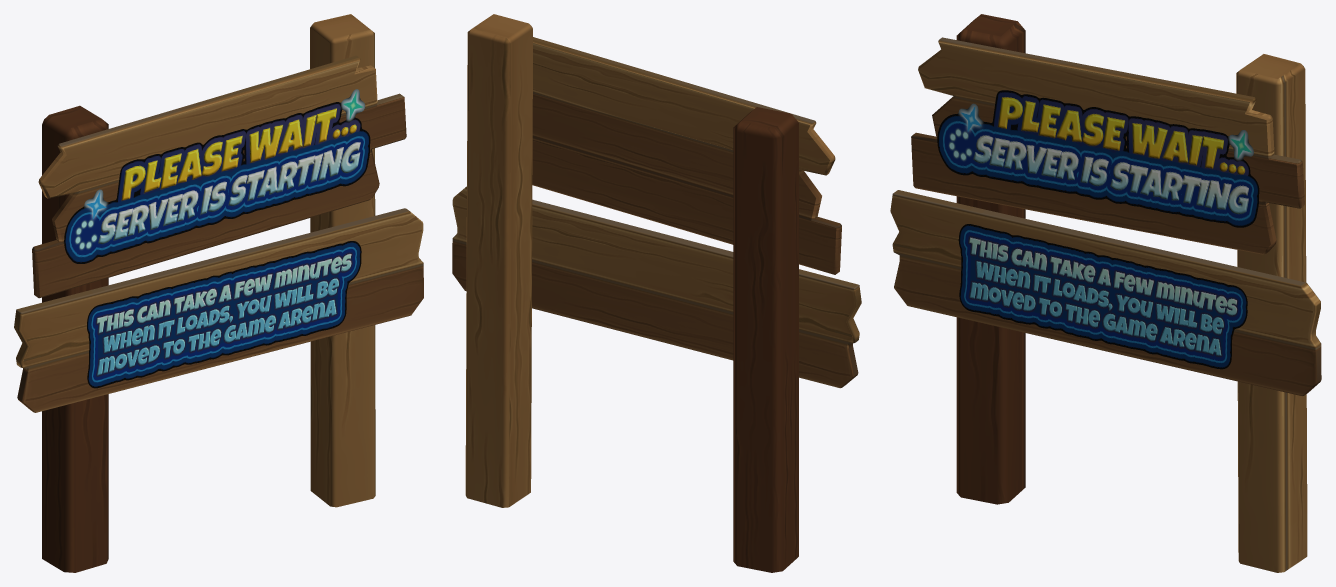
The model's file is errorSign.gltf.
3 views of the same model, side by side, from view 1: azimuth 30°, elevation 25°; view 2: azimuth 150°, elevation 25°; view 3: azimuth 330°, elevation 25° (orthographic). The views are drawn at different scales.
Parts seen in each view (by area): view 1: plank.top, sign.top, plank.bottom, sign.bottom, post.right, post.left; view 2: plank.top, post.right, post.left, plank.bottom; view 3: plank.top, sign.top, plank.bottom, sign.bottom, post.right, post.left.
Part boxes in pixels (left/top/right/bottom): plank.top: left=32, top=55, right=406, bottom=298; sign.top: left=64, top=89, right=370, bottom=263; plank.bottom: left=14, top=208, right=423, bottom=412; sign.bottom: left=87, top=241, right=361, bottom=388; post.right: left=310, top=14, right=375, bottom=507; post.left: left=42, top=105, right=108, bottom=572; plank.top: left=532, top=37, right=841, bottom=274; post.right: left=465, top=14, right=532, bottom=507; post.left: left=733, top=107, right=798, bottom=572; plank.bottom: left=452, top=186, right=861, bottom=388; plank.top: left=911, top=37, right=1304, bottom=254; sign.top: left=937, top=90, right=1259, bottom=227; plank.bottom: left=890, top=190, right=1321, bottom=396; sign.bottom: left=958, top=224, right=1247, bottom=369; post.right: left=1236, top=54, right=1307, bottom=572; post.left: left=956, top=14, right=1025, bottom=504.
Size of what is drawn, in the model's own units: 2.84 by 3.13 by 0.4304.
4 materials, 4 textured.
